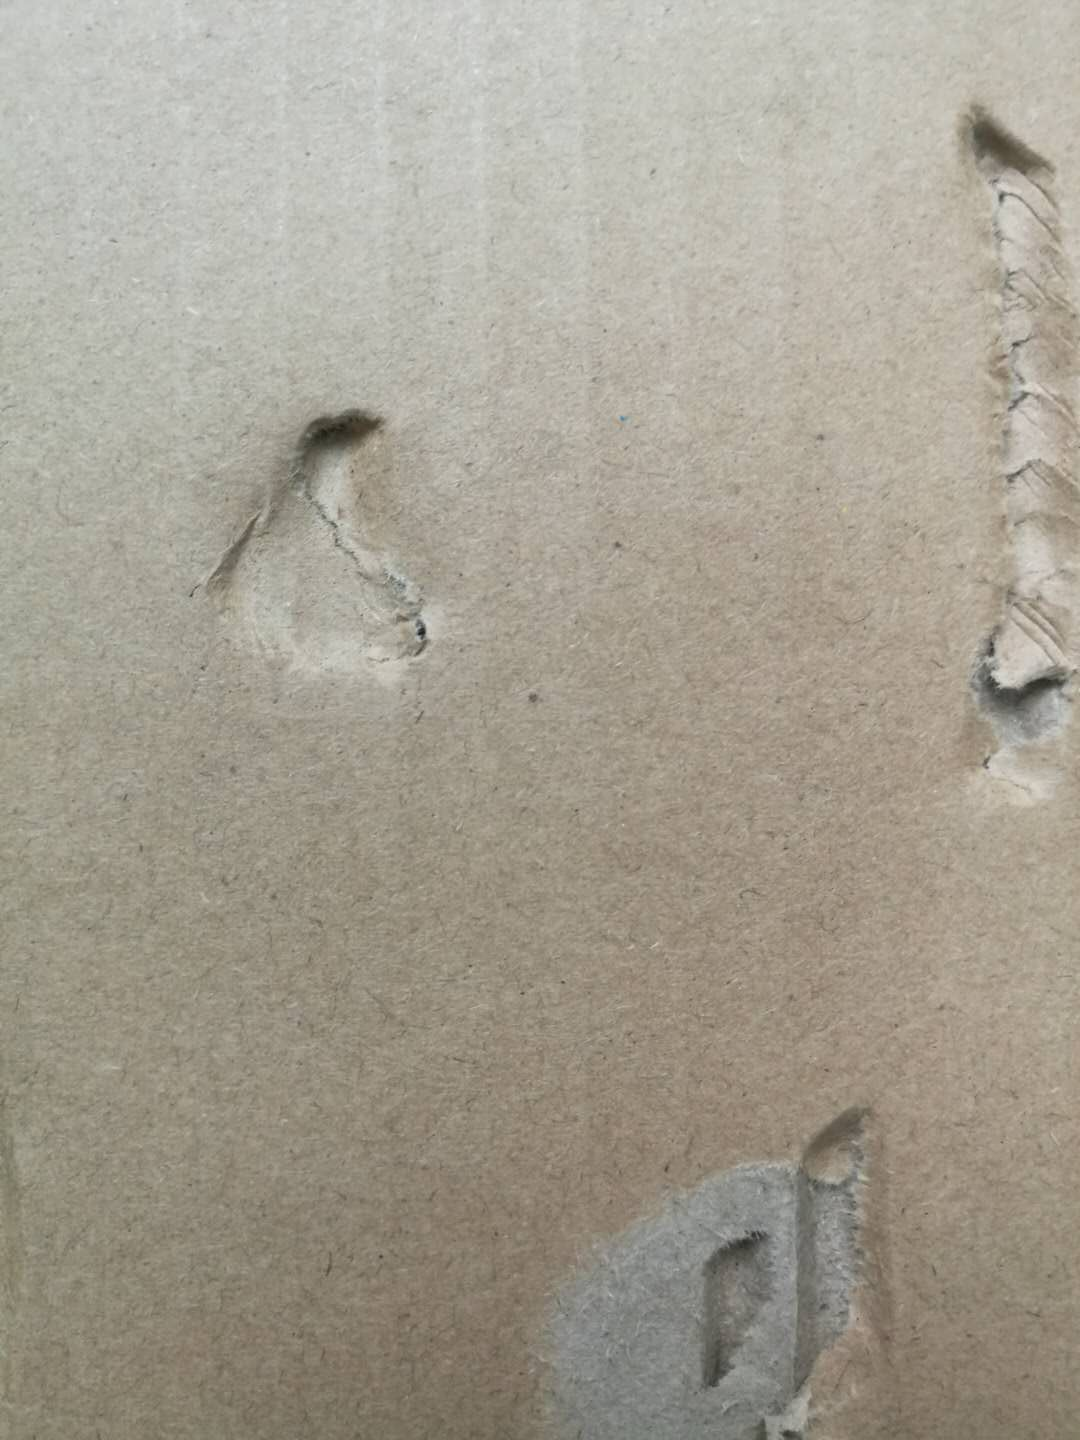defect: (503, 1084, 943, 1440), (917, 67, 1080, 819), (172, 376, 465, 705)
